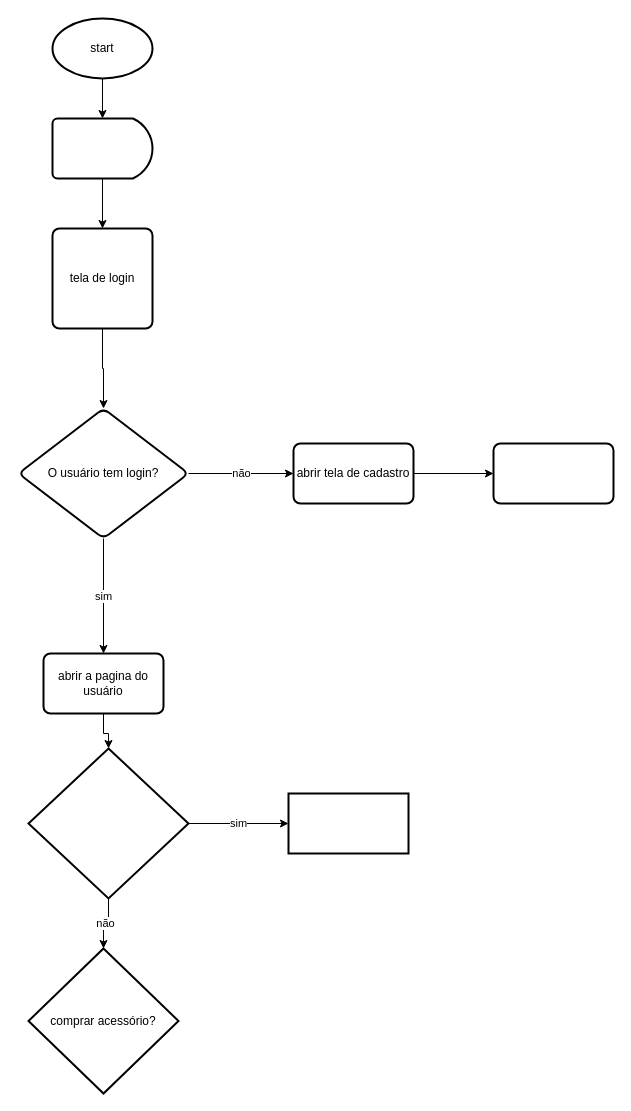
The diagram is 631 pixels wide and 1111 high, and some of its shapes have lost their labels. The centre of each missing label's shape, as x and y in pixels:
200ms: (102,148)
coletar dados: (553,473)
escolher o produto que vai comprar?: (108,823)
